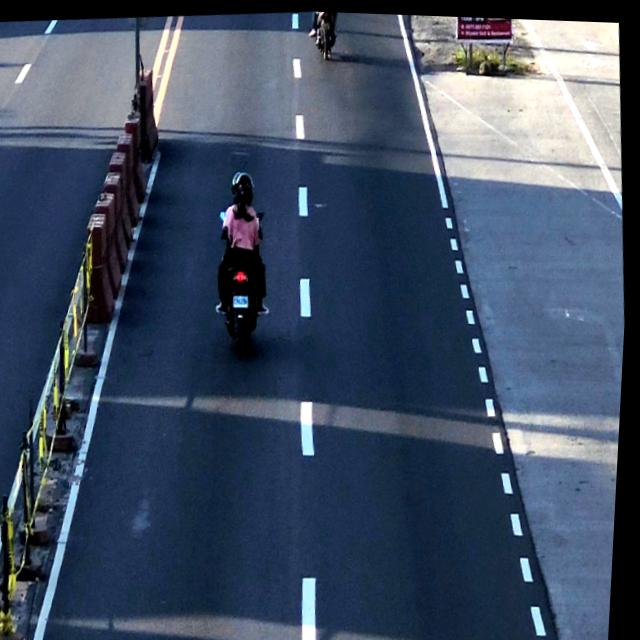License-Plate: (236, 293, 253, 309)
Motorcycle: (210, 160, 275, 365)
